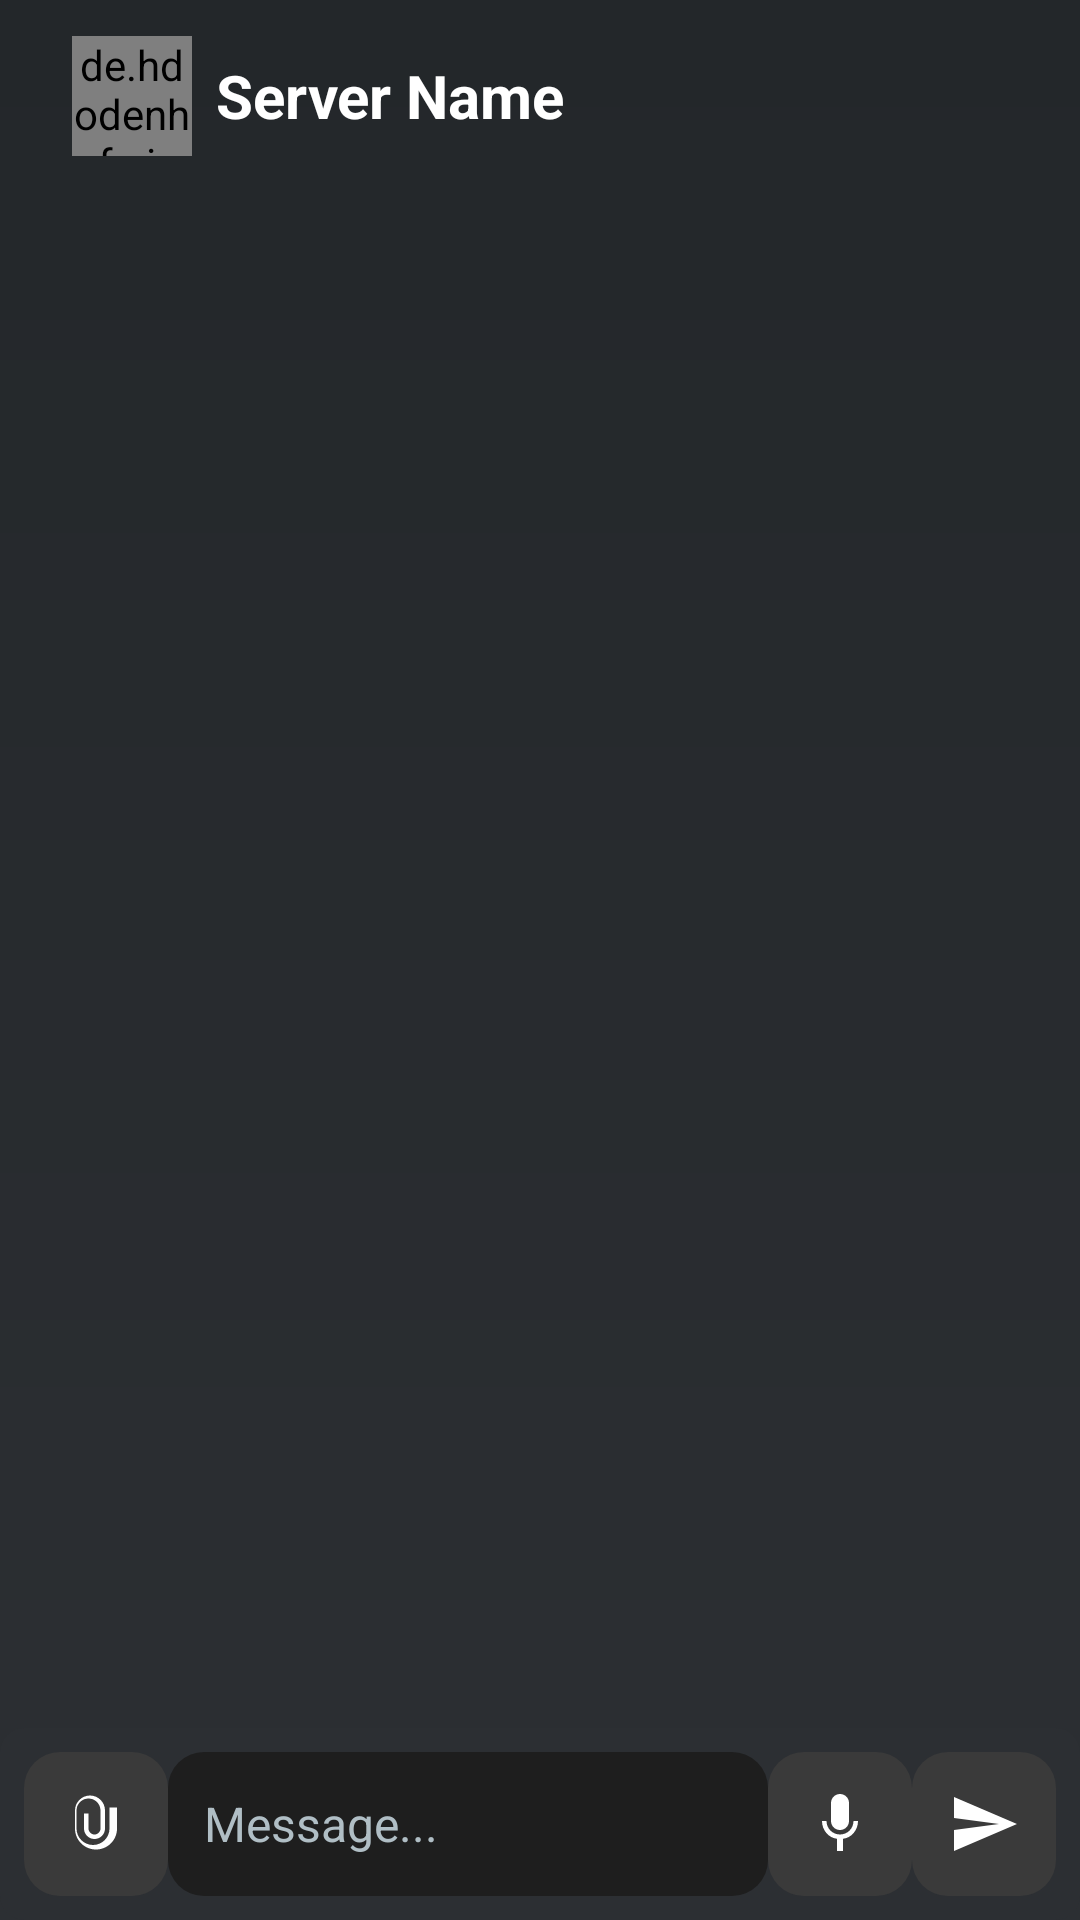

Where to tap for icons on this 1080*1920 app screen, as (x=x, y=y):
attach: (x=96, y=1824)
mic: (x=840, y=1824)
send: (x=984, y=1824)
